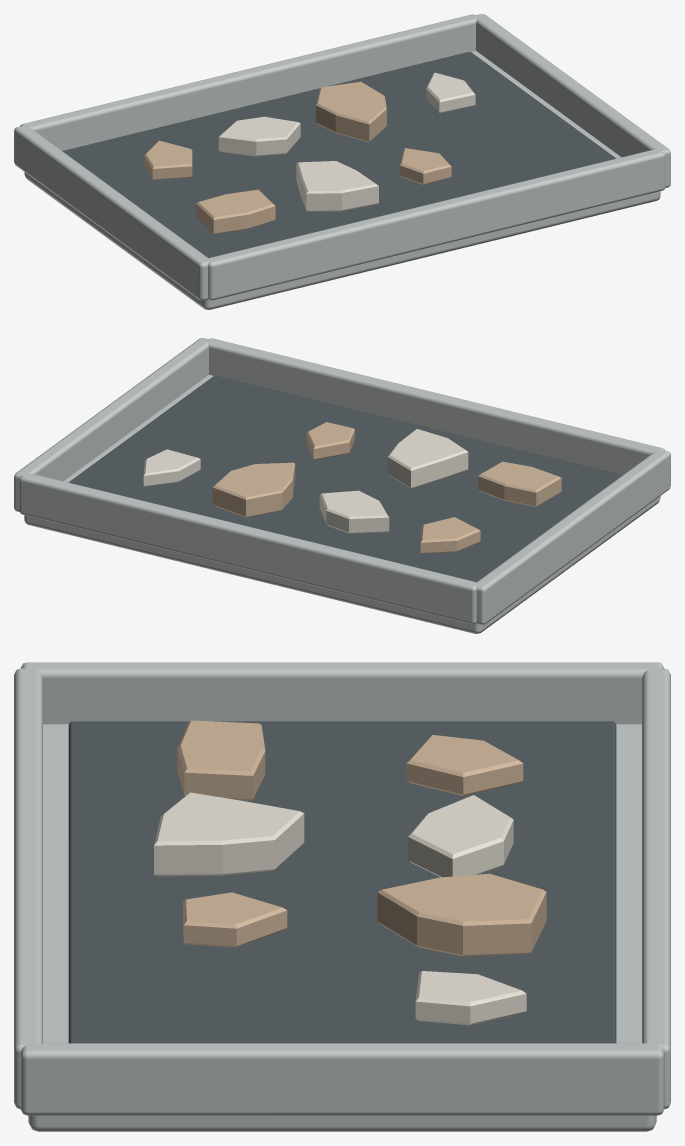
The model's file is sherd-tray-v2.glb.
3 renders of one model, top to bottom at view 1: azimuth 30°, elevation 25°; view 2: azimuth 150°, elevation 25°; view 3: azimuth 270°, elevation 25°, orthographic. The views are drawn at different scales.
Visible parts, largest first — view 1: Dark felt backing, Archival raised side (×2), Archival raised end (×2), Broken ceramic fragment (×7), Archival tray; view 2: Dark felt backing, Archival raised side (×2), Archival raised end (×2), Broken ceramic fragment (×7), Archival tray; view 3: Dark felt backing, Archival raised end (×2), Broken ceramic fragment (×7), Archival tray, Archival raised side (×2).
Boxes of the visible parts, box(x1,y1,x2,y2) form: Dark felt backing: box(62, 52, 615, 257); Archival raised side (×2): box(20, 14, 665, 300); Archival raised end (×2): box(14, 14, 670, 300); Broken ceramic fragment (×7): box(144, 72, 475, 234); Archival tray: box(24, 51, 660, 309); Dark felt backing: box(69, 376, 622, 581); Archival raised side (×2): box(19, 338, 664, 624); Archival raised end (×2): box(14, 338, 670, 624); Broken ceramic fragment (×7): box(143, 422, 561, 553); Archival tray: box(24, 375, 660, 633); Dark felt backing: box(68, 721, 616, 1043); Archival raised end (×2): box(20, 662, 664, 1115); Broken ceramic fragment (×7): box(154, 720, 546, 1025); Archival tray: box(28, 724, 656, 1131); Archival raised side (×2): box(14, 668, 670, 1109).
Bounding box in the file's own units: 0.578 × 0.061 × 0.408.
